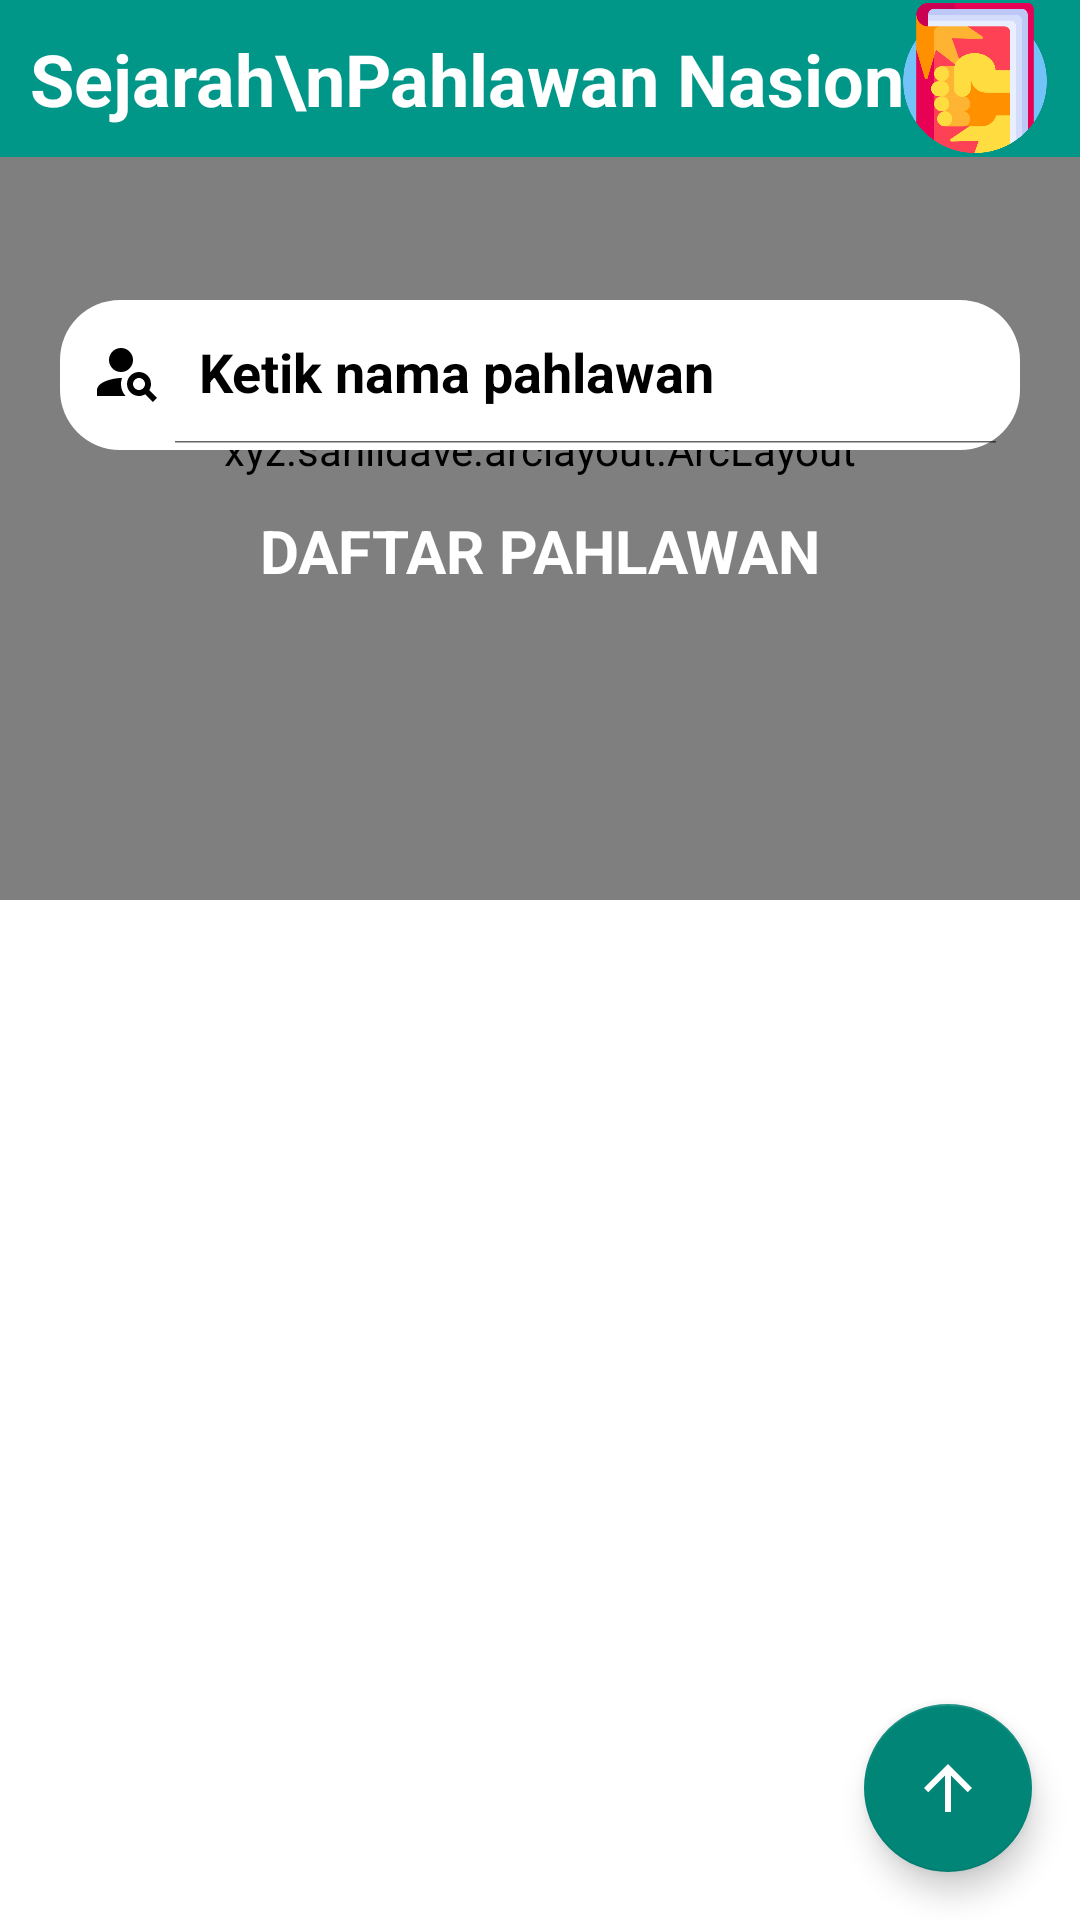

Point at icon controls on the screen. Image size 1080*1920, points as [x,y].
arrow: [948,1788]
